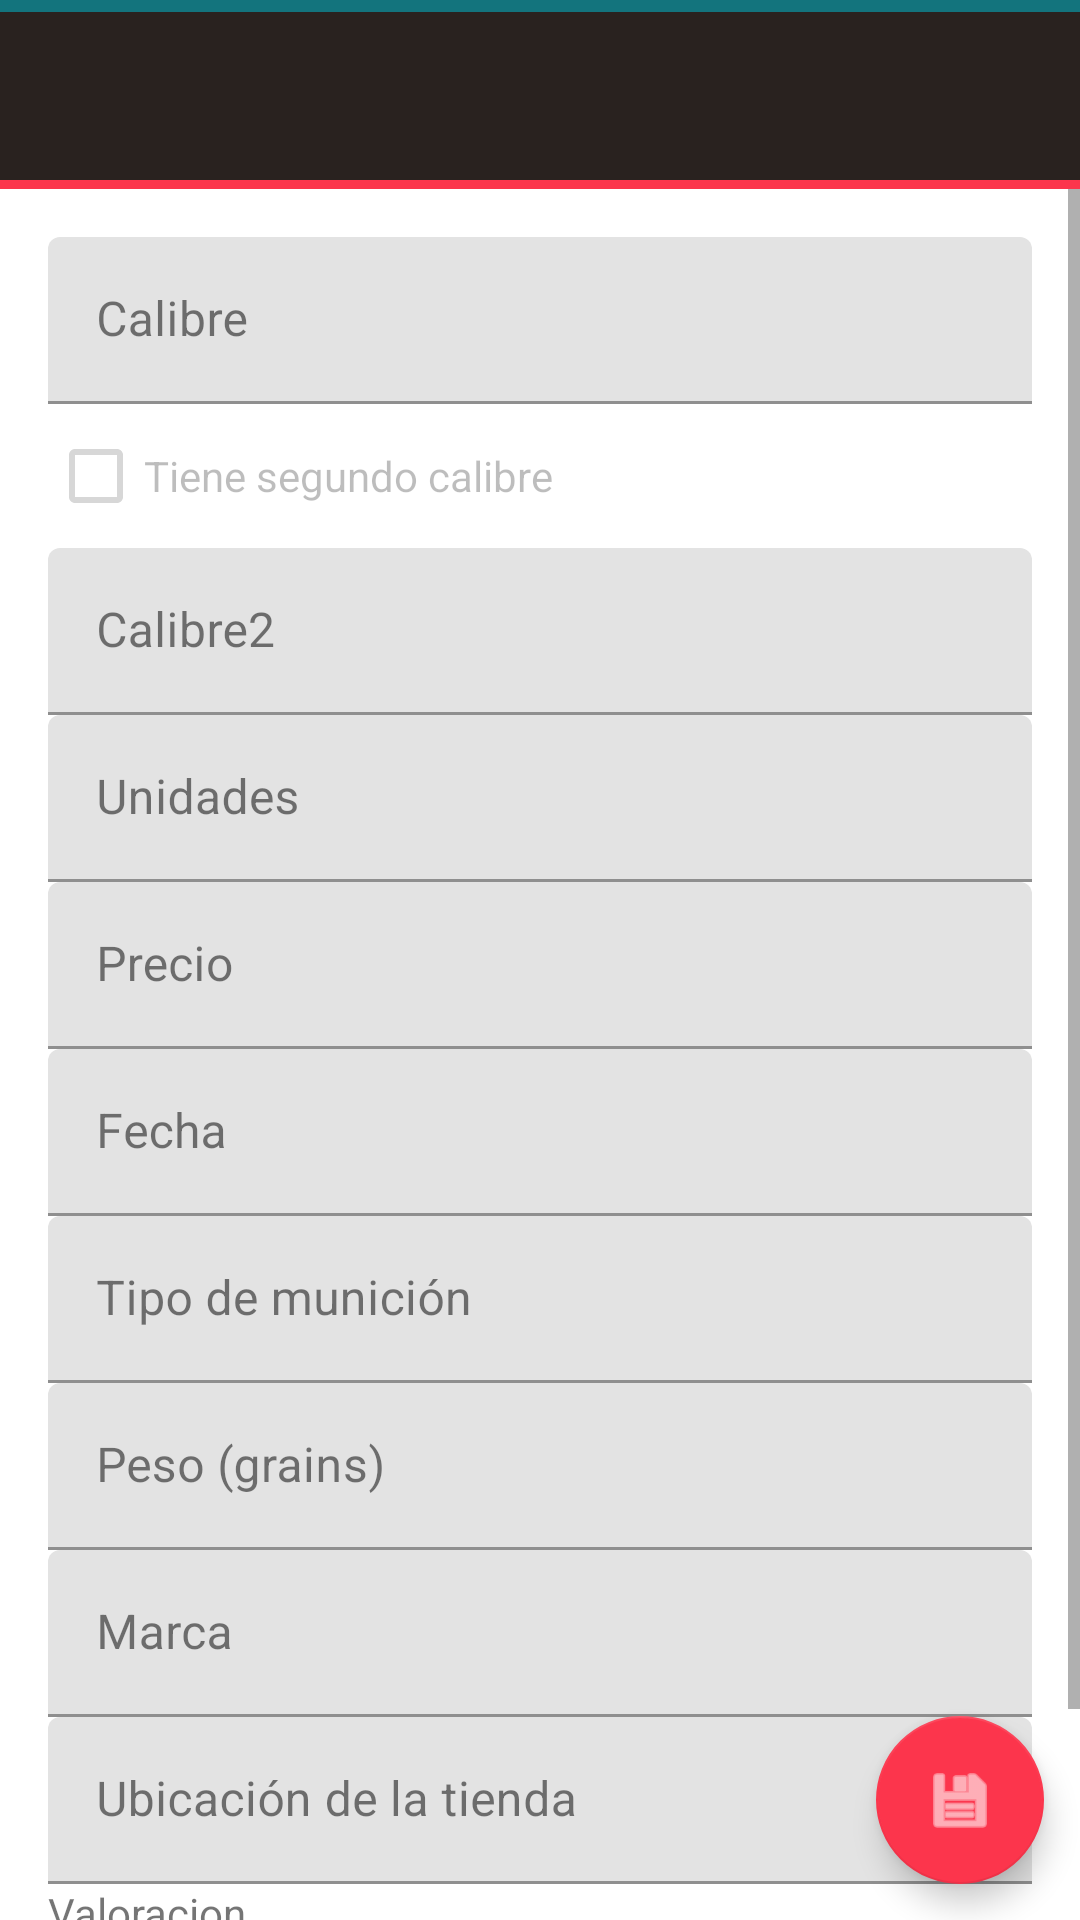

Screen size 1080w x 1920h. Icon name, then its box in pixels as bbox=[x1, y1, x2, y2]:
save: bbox=[876, 1716, 1044, 1884]
